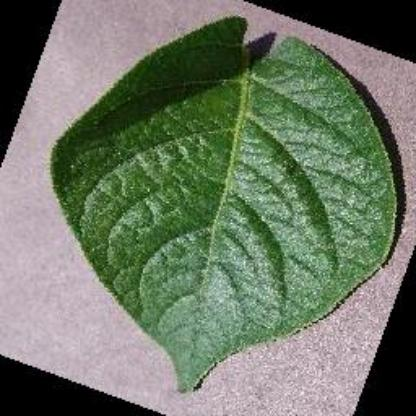Healthy-plant: (51, 11, 398, 397)
